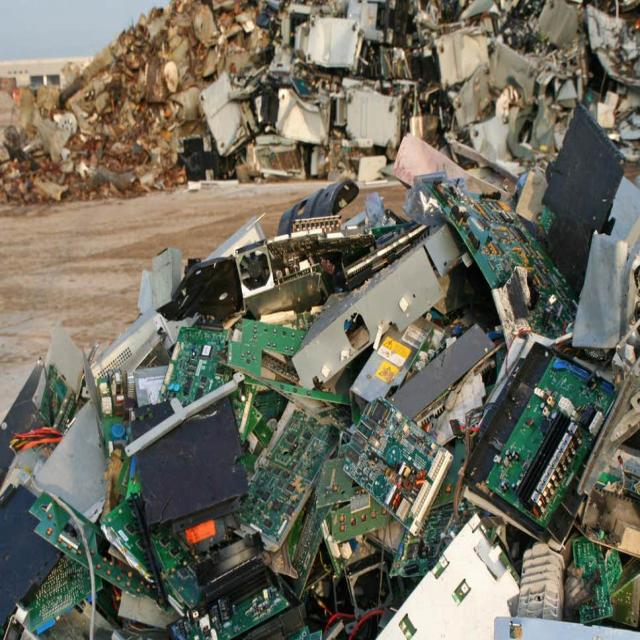heap: (42, 330, 640, 638), (224, 1, 628, 284)
